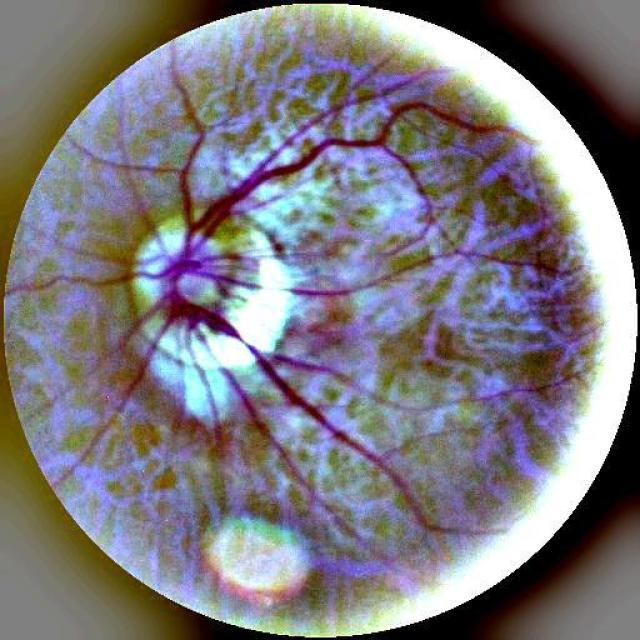Macula: (299, 305, 363, 363)
Nerves: (6, 80, 449, 531), (279, 280, 379, 296)
Optic Disk: (141, 213, 294, 380)
